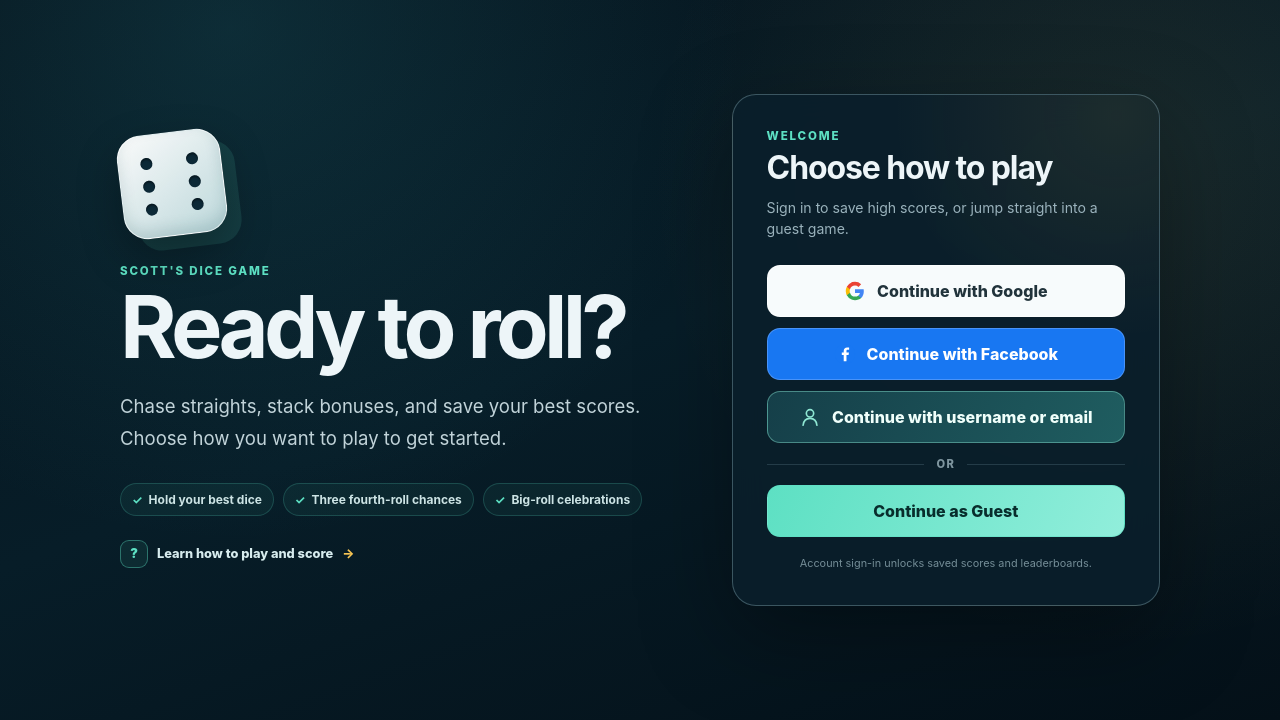
it: AuthLanding › opens the username-or-email sign-in and account creation form
Click the button "Continue with username or email" at (946, 417), box [767, 391, 1125, 443]
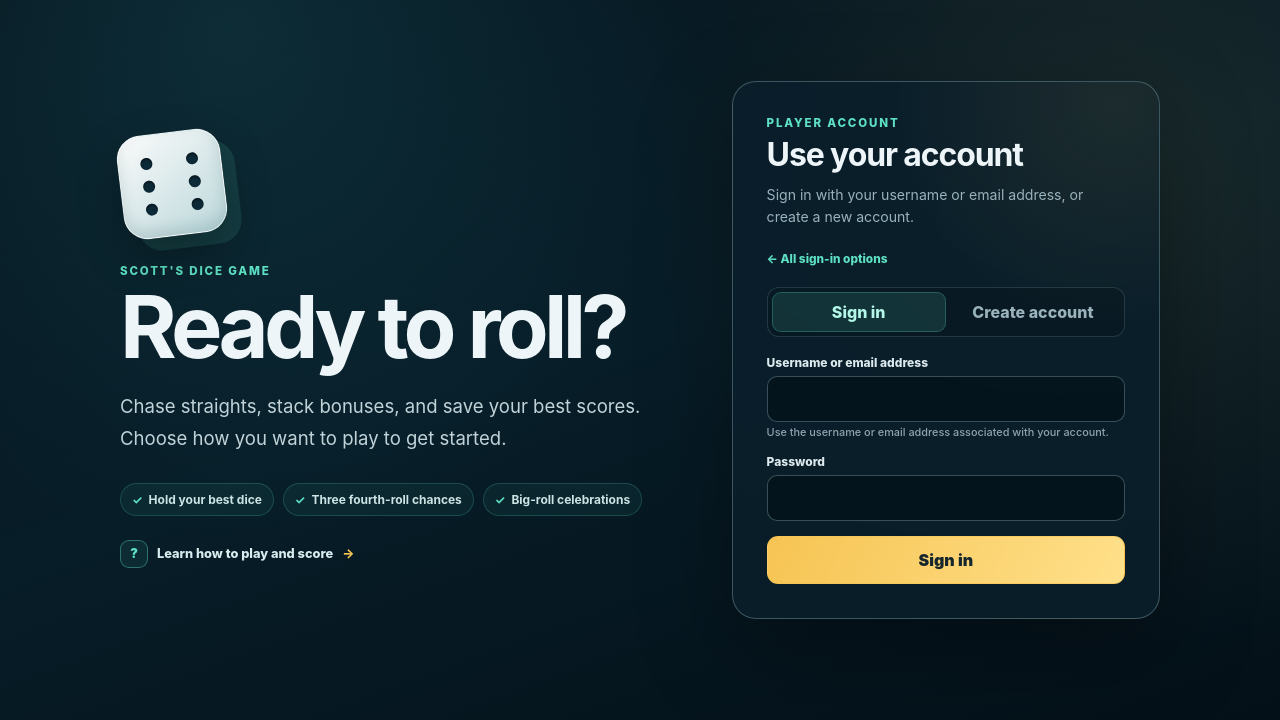
Check: the heading "Use your account" is shown, box [767, 135, 1023, 174]
Check: the text "Sign in with your username or email address" is shown, box [767, 186, 1083, 225]
Check: the tab "Create account" is shown, box [946, 292, 1120, 332]
